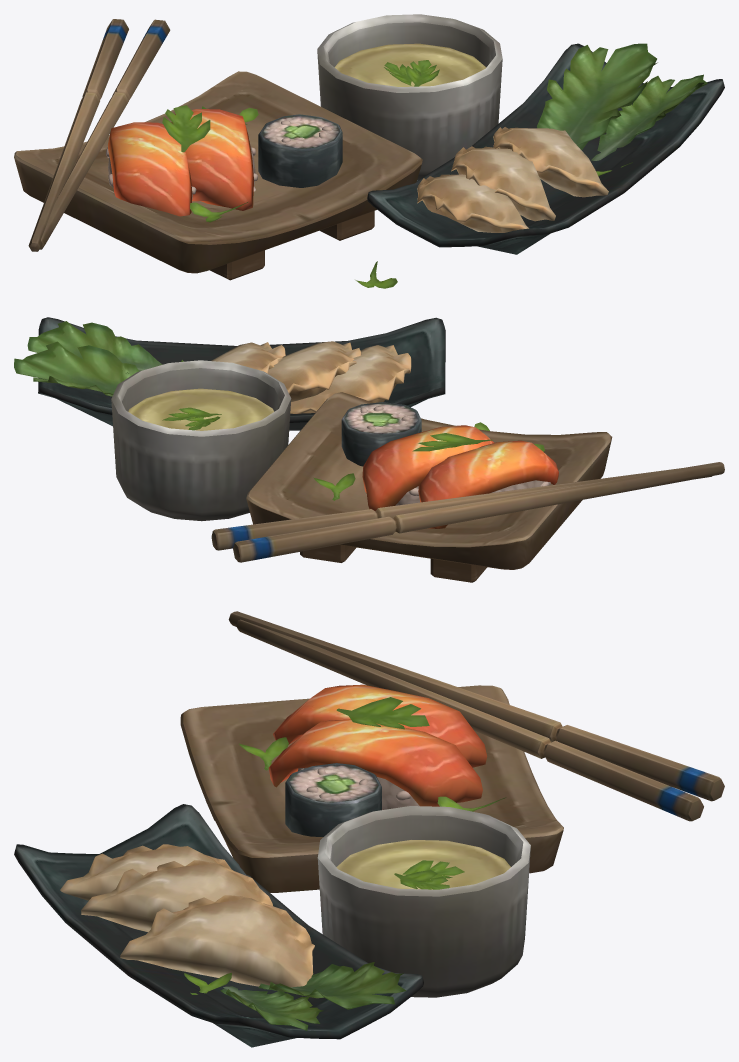
File: food.glb
3 renders of one model, top to bottom at view 1: azimuth 30°, elevation 25°; view 2: azimuth 150°, elevation 25°; view 3: azimuth 270°, elevation 25°, orthographic. The views are drawn at different scales.
Visible parts, largest first — view 1: Pack02Free_Plate01.001, Pack02Free_Chawanmushi01.001, Pack02Free_Plate02.001, Pack02Free_Leaf03.001, Pack02Free_Nigiri01.001, Pack02Free_Nigiri01.002, Pack02Free_Maki01.001, Pack02Free_Gyosa01.003, Pack02Free_Gyosa01.001, Pack02Free_Gyosa01.002, Pack02Free_Chopstick01.001, Pack02Free_Chopstick01.002 (+3 smaller); view 2: Pack02Free_Chawanmushi01.001, Pack02Free_Plate01.001, Pack02Free_Chopstick01.001, Pack02Free_Plate02.001, Pack02Free_Nigiri01.001, Pack02Free_Nigiri01.002, Pack02Free_Chopstick01.002, Pack02Free_Leaf03.001, Pack02Free_Gyosa01.001, Pack02Free_Maki01.001, Pack02Free_Gyosa01.002, Pack02Free_Leaf03.002 (+2 smaller); view 3: Pack02Free_Chawanmushi01.001, Pack02Free_Plate01.001, Pack02Free_Plate02.001, Pack02Free_Gyosa01.003, Pack02Free_Nigiri01.002, Pack02Free_Chopstick01.002, Pack02Free_Chopstick01.001, Pack02Free_Gyosa01.002, Pack02Free_Nigiri01.001, Pack02Free_Maki01.001, Pack02Free_Leaf03.001, Pack02Free_Gyosa01.001 (+3 smaller).
Part boxes in pixels (left/top/right/bottom): Pack02Free_Plate01.001: left=14, top=71, right=422, bottom=280; Pack02Free_Chawanmushi01.001: left=317, top=14, right=502, bottom=180; Pack02Free_Plate02.001: left=367, top=43, right=724, bottom=254; Pack02Free_Leaf03.001: left=537, top=43, right=657, bottom=150; Pack02Free_Nigiri01.001: left=106, top=122, right=196, bottom=216; Pack02Free_Nigiri01.002: left=171, top=109, right=257, bottom=210; Pack02Free_Maki01.001: left=258, top=114, right=342, bottom=187; Pack02Free_Gyosa01.003: left=493, top=127, right=608, bottom=197; Pack02Free_Gyosa01.001: left=417, top=174, right=528, bottom=232; Pack02Free_Gyosa01.002: left=451, top=146, right=555, bottom=221; Pack02Free_Chopstick01.001: left=28, top=19, right=128, bottom=251; Pack02Free_Chopstick01.002: left=39, top=19, right=170, bottom=249; Pack02Free_Chawanmushi01.001: left=111, top=360, right=291, bottom=521; Pack02Free_Plate01.001: left=246, top=392, right=612, bottom=582; Pack02Free_Chopstick01.001: left=233, top=462, right=724, bottom=562; Pack02Free_Plate02.001: left=38, top=317, right=445, bottom=430; Pack02Free_Nigiri01.001: left=418, top=440, right=558, bottom=528; Pack02Free_Nigiri01.002: left=362, top=425, right=494, bottom=510; Pack02Free_Chopstick01.002: left=211, top=468, right=712, bottom=550; Pack02Free_Leaf03.001: left=14, top=341, right=139, bottom=396; Pack02Free_Gyosa01.001: left=290, top=345, right=411, bottom=413; Pack02Free_Maki01.001: left=341, top=402, right=421, bottom=466; Pack02Free_Gyosa01.002: left=268, top=341, right=361, bottom=401; Pack02Free_Leaf03.002: left=27, top=321, right=162, bottom=373; Pack02Free_Chawanmushi01.001: left=317, top=806, right=530, bottom=997; Pack02Free_Plate01.001: left=180, top=685, right=563, bottom=892; Pack02Free_Plate02.001: left=14, top=804, right=423, bottom=1047; Pack02Free_Gyosa01.003: left=120, top=895, right=314, bottom=987; Pack02Free_Nigiri01.002: left=268, top=719, right=482, bottom=809; Pack02Free_Chopstick01.002: left=236, top=619, right=703, bottom=821; Pack02Free_Chopstick01.001: left=228, top=611, right=724, bottom=801; Pack02Free_Gyosa01.002: left=81, top=860, right=272, bottom=931; Pack02Free_Nigiri01.001: left=273, top=684, right=487, bottom=767; Pack02Free_Maki01.001: left=285, top=763, right=381, bottom=836; Pack02Free_Leaf03.001: left=258, top=962, right=406, bottom=1009; Pack02Free_Gyosa01.001: left=60, top=844, right=232, bottom=900.
Bounding box in the file's own units: 0.7732 × 0.108 × 0.5882.
Materials: 1 (1 with a texture image).
